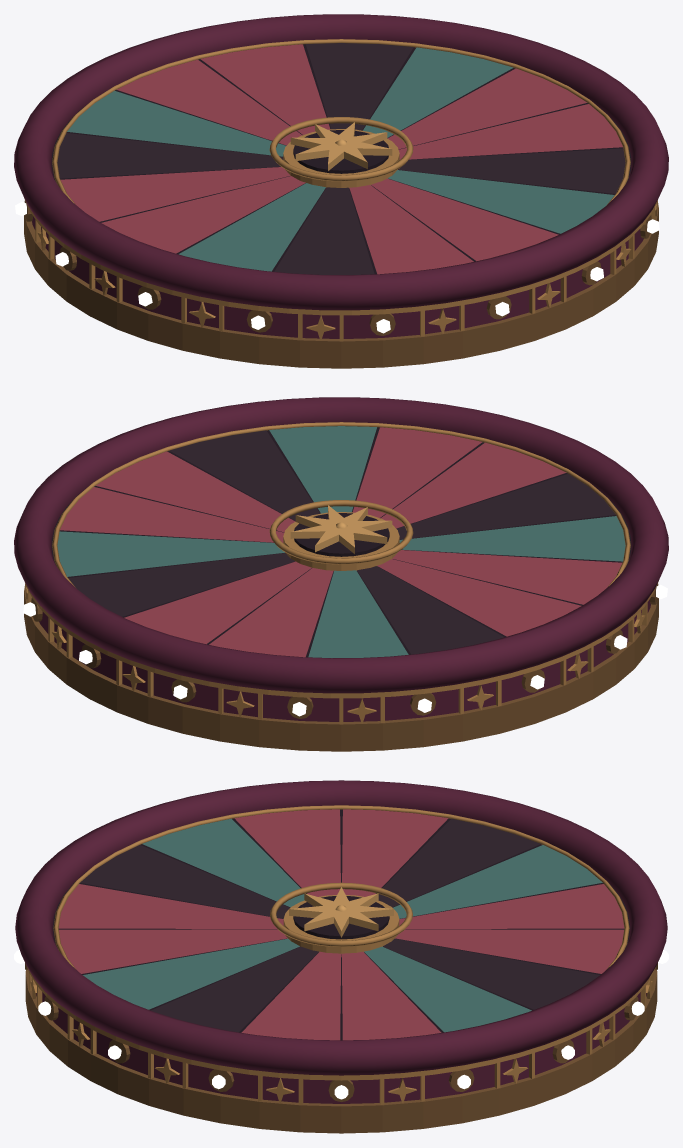
Rendered from roulette-dais.glb.
The picture shows the model from 3 angles, top to bottom: view 1: azimuth 30°, elevation 25°; view 2: azimuth 150°, elevation 25°; view 3: azimuth 270°, elevation 25°; orthographic projection.
Visible parts, largest first — view 1: roulette-dais; view 2: roulette-dais; view 3: roulette-dais.
Part boxes in pixels (x1=…): roulette-dais: x1=14, y1=14, x2=668, y2=368; roulette-dais: x1=14, y1=397, x2=668, y2=751; roulette-dais: x1=14, y1=780, x2=668, y2=1133.
Size of the model in its own units: 3.51 by 0.562 by 3.5.
